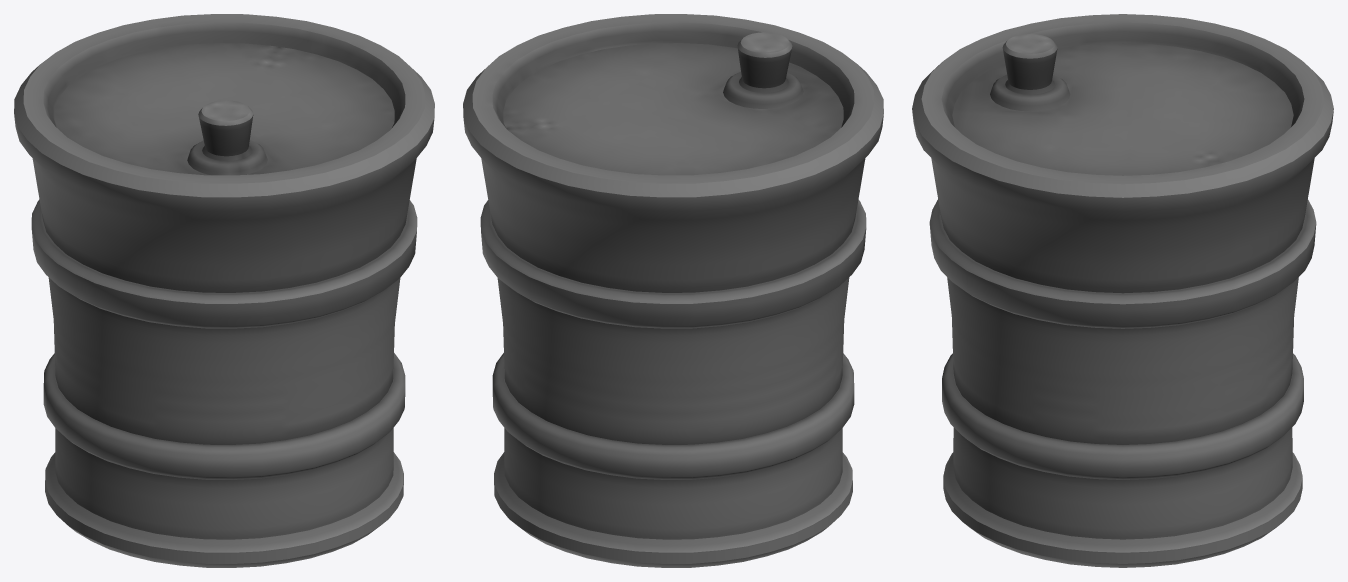
Rendered from 金属油桶.glb.
3 renders of one model, left to right at view 1: azimuth 30°, elevation 25°; view 2: azimuth 150°, elevation 25°; view 3: azimuth 270°, elevation 25°, orthographic.
Parts seen in each view (by area): view 1: SM_youtong2; view 2: SM_youtong2; view 3: SM_youtong2.
Boxes of the visible parts, x1,y1,x2,y2 form: SM_youtong2: (14, 14, 434, 567); SM_youtong2: (463, 14, 883, 567); SM_youtong2: (912, 14, 1333, 567).
Size of the model in its own units: 1.03 by 1.16 by 1.03.
1 material, 1 textured.
